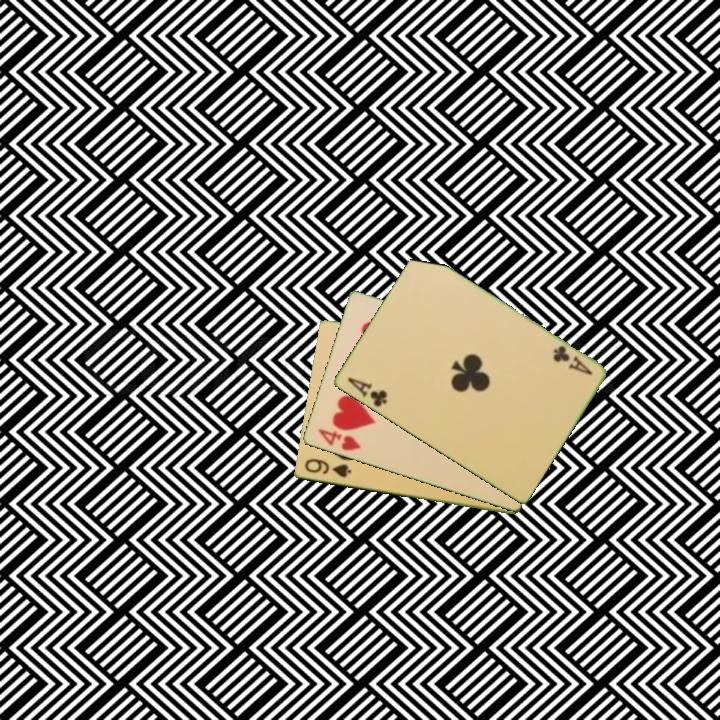4h: (314, 425, 363, 454)
9s: (301, 455, 354, 481)
Ac: (343, 374, 390, 410), (549, 342, 595, 378)
